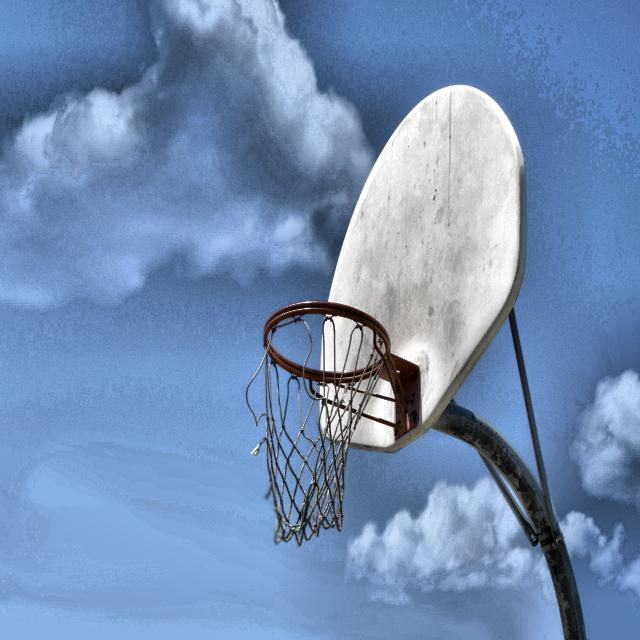rim: (263, 302, 392, 542)
